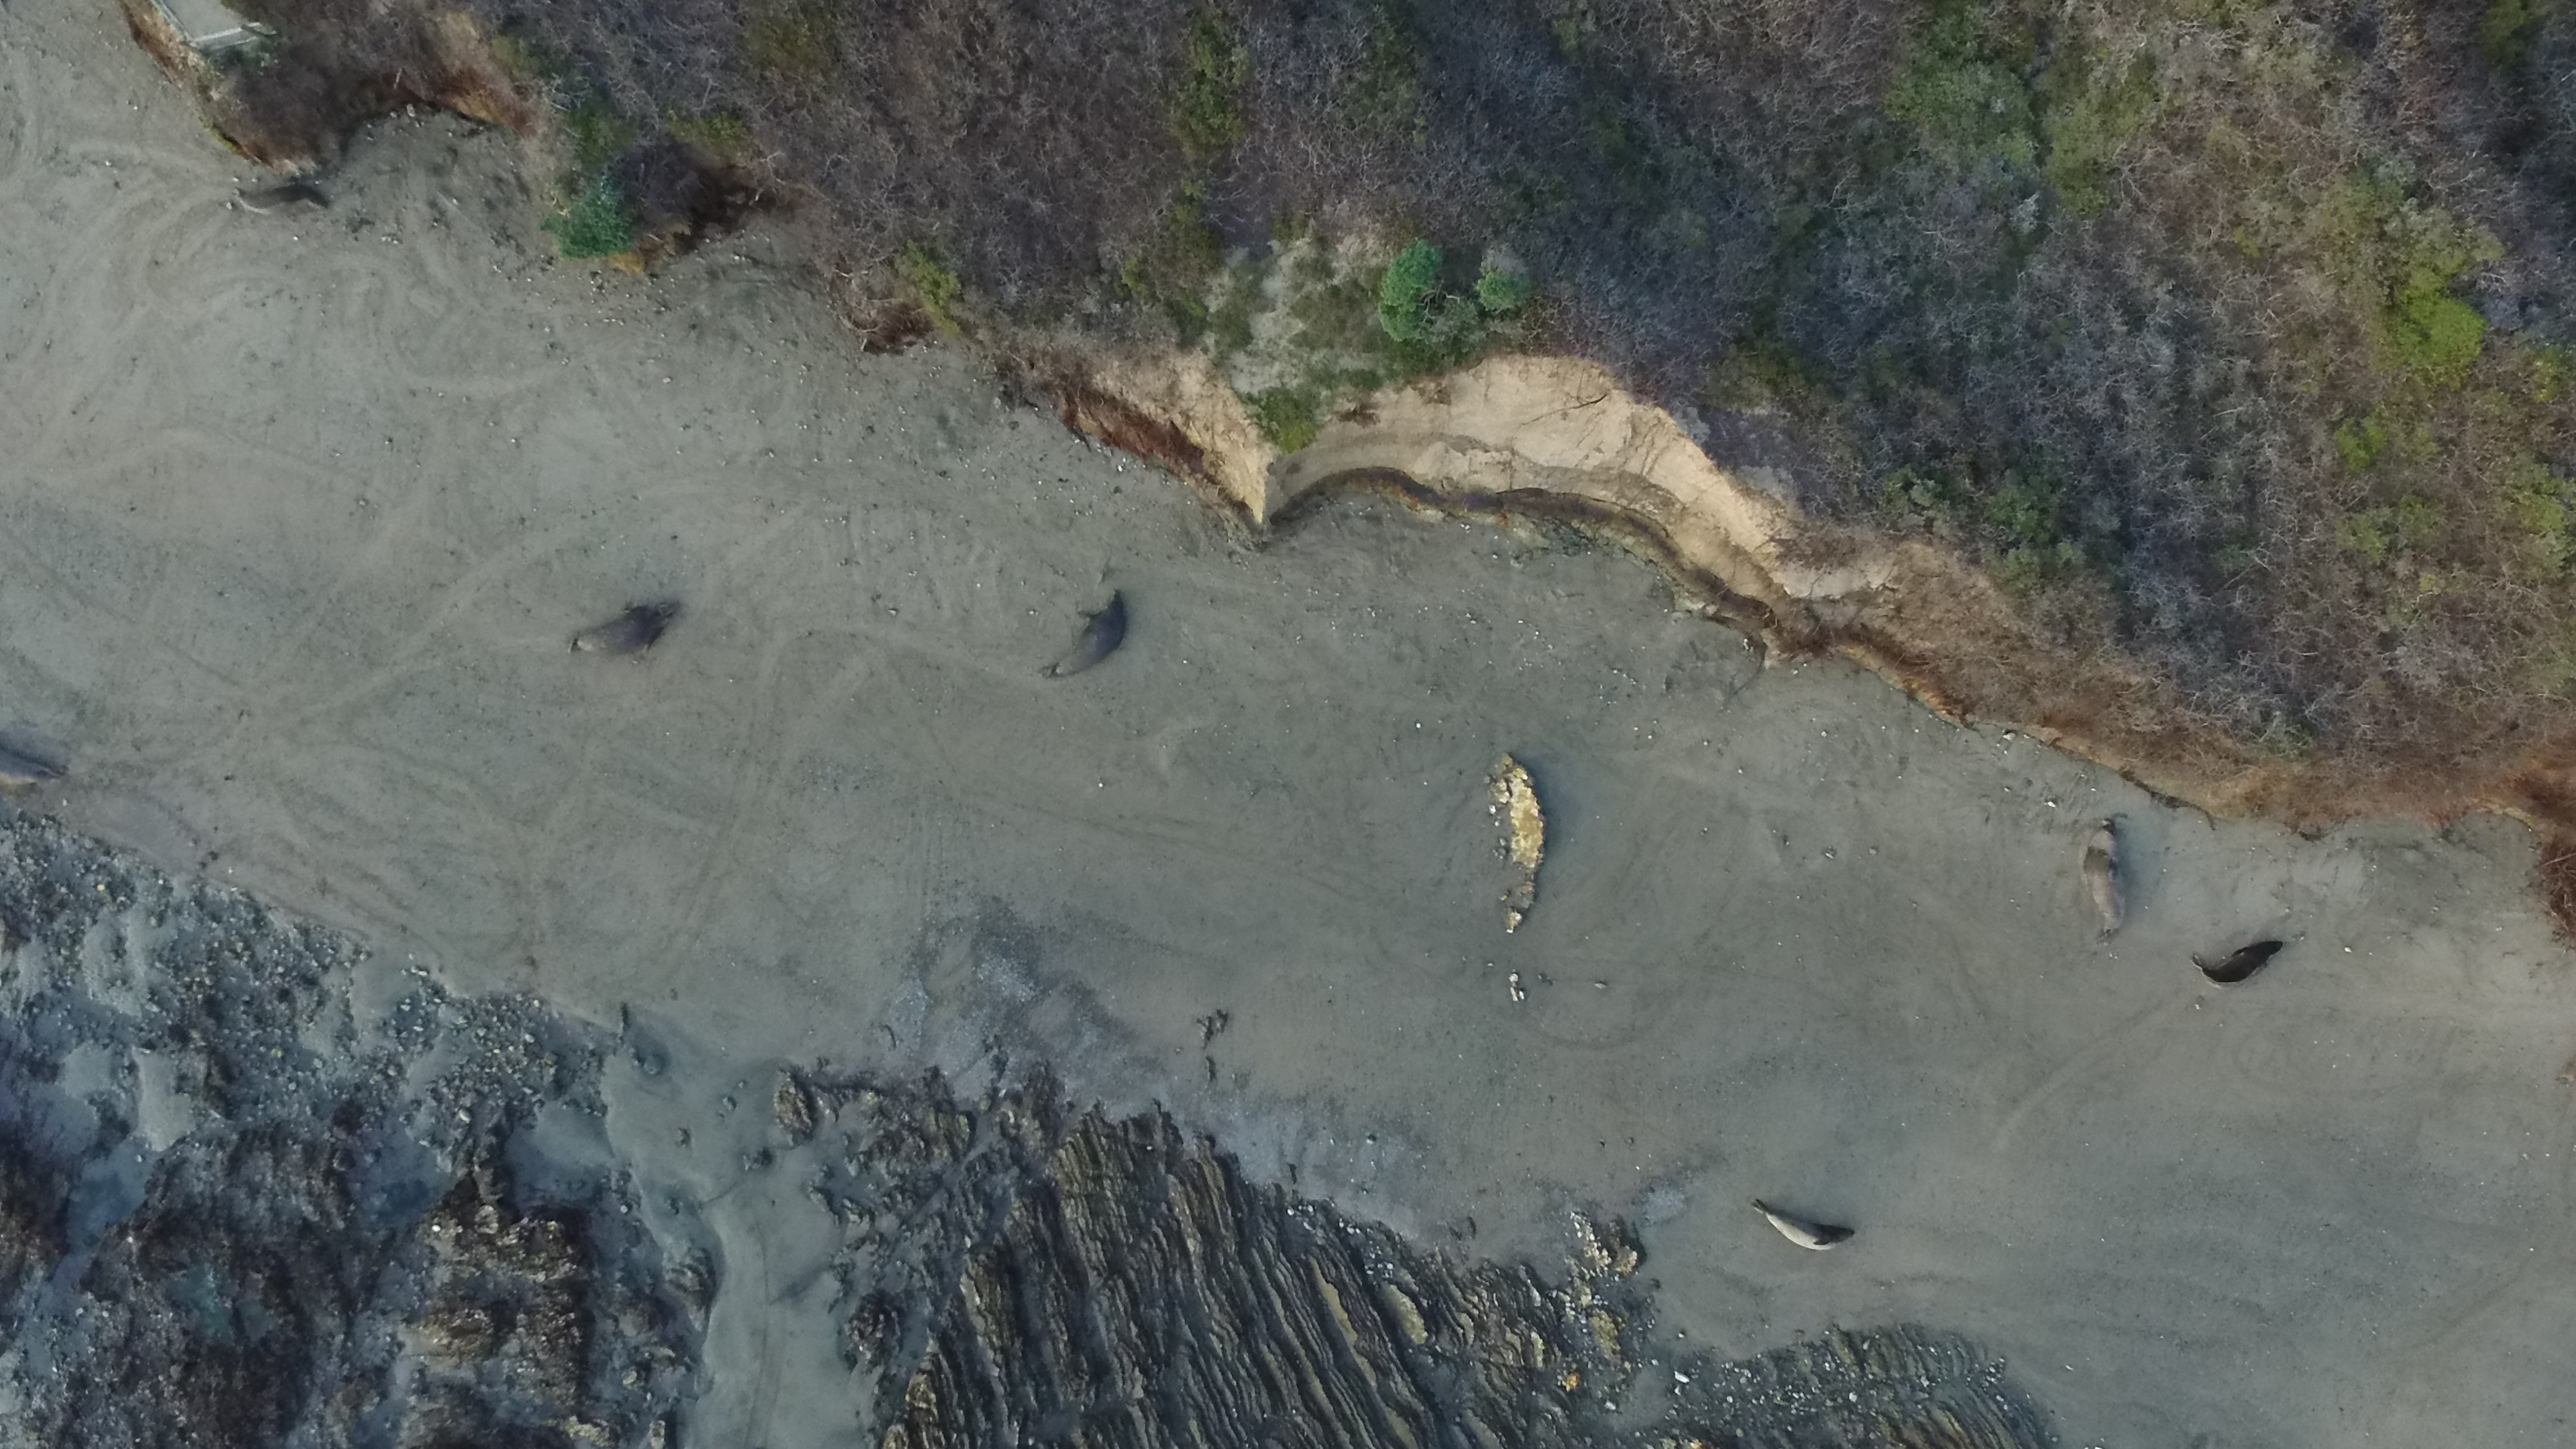adult male: (1046, 591, 1122, 679), (2077, 819, 2127, 945), (570, 603, 674, 656)
male juvenile / female juvenile / adult female: (1750, 1198, 1856, 1251), (2192, 941, 2282, 987), (235, 188, 331, 212)
